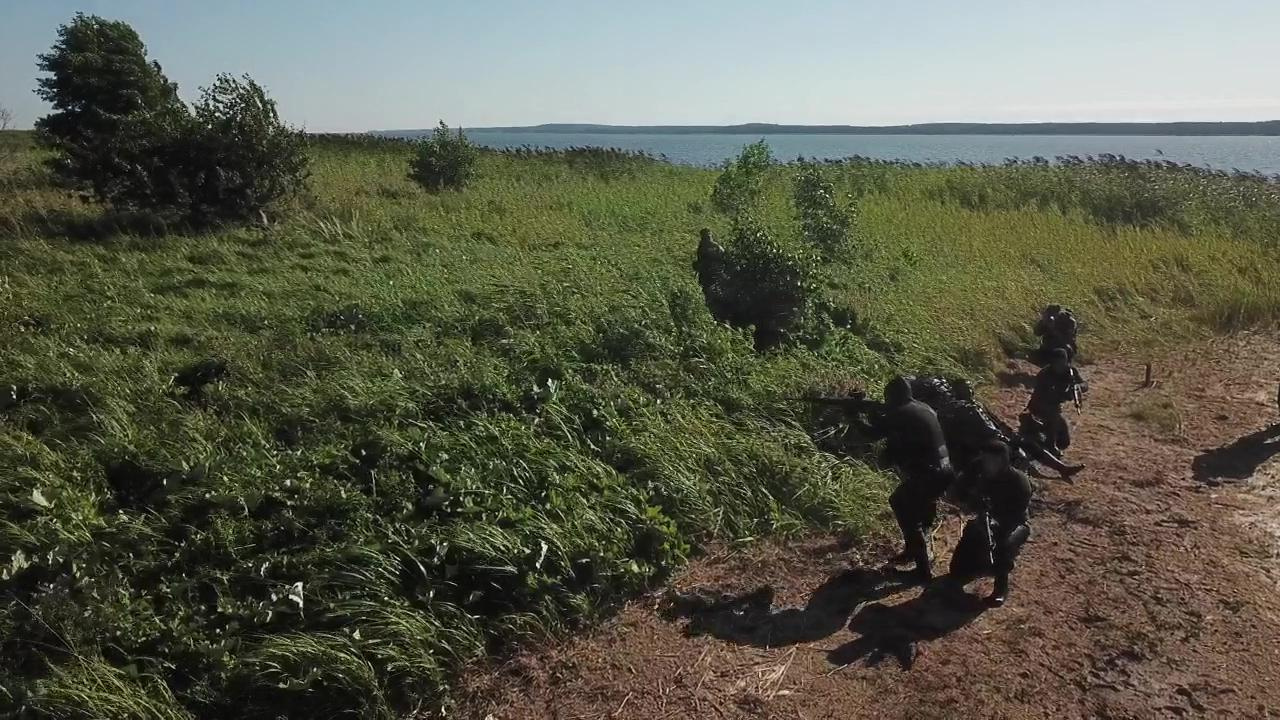Soldier: (798, 377, 950, 577), (949, 438, 1039, 613), (1019, 346, 1085, 450), (1031, 302, 1080, 351)
